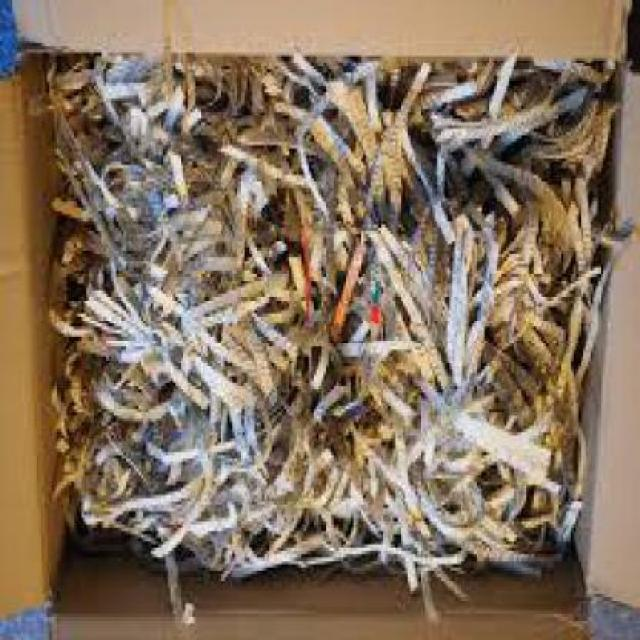CARDBOARD: (9, 4, 628, 62), (585, 66, 638, 620), (1, 39, 47, 624), (46, 610, 591, 638)
PAPER: (42, 59, 615, 610)
